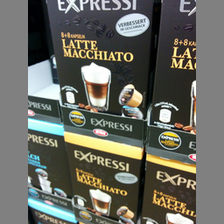coffee: (46, 1, 157, 122), (63, 132, 146, 224), (138, 155, 195, 224)
